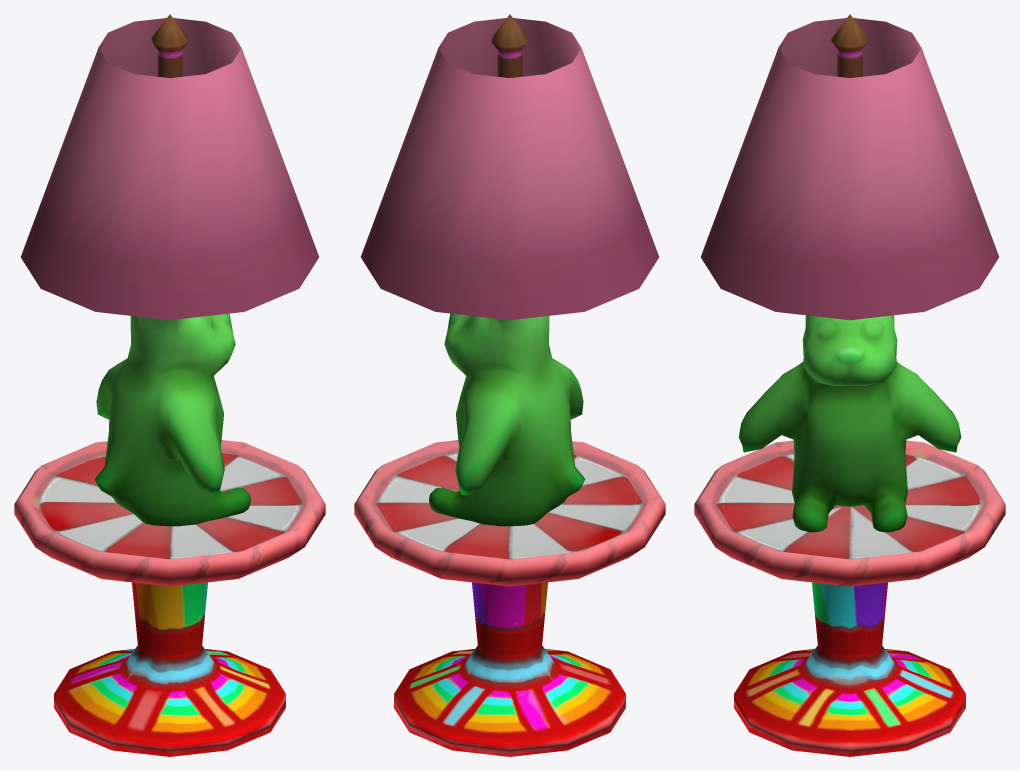
Rendered from nightStand.gltf.
The picture shows the model from 3 angles, left to right: view 1: azimuth 30°, elevation 25°; view 2: azimuth 150°, elevation 25°; view 3: azimuth 270°, elevation 25°; orthographic projection.
Visible parts, largest first — view 1: Object_2; view 2: Object_2; view 3: Object_2.
Boxes of the visible parts, x1,y1,x2,y2 form: Object_2: (14, 14, 325, 756); Object_2: (354, 14, 665, 756); Object_2: (694, 14, 1005, 756).
Bounding box in the file's own units: 2.21 × 5.43 × 2.21.
Materials: 1 (1 with a texture image).
